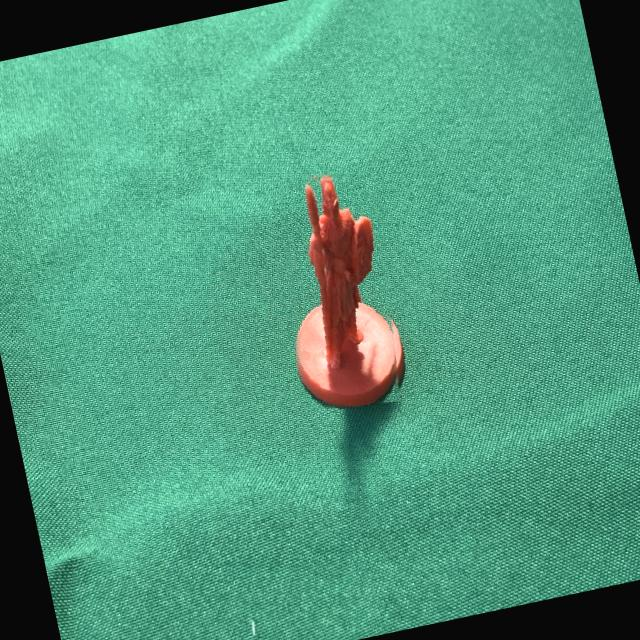amon_follower: (294, 174, 397, 408)
